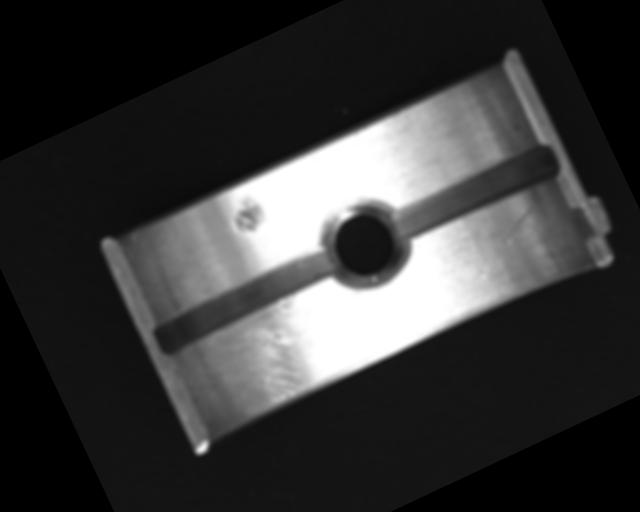bruise: (226, 192, 270, 240)
gap: (149, 240, 345, 360), (387, 139, 562, 247)
hole: (310, 186, 419, 298)
nick: (458, 198, 558, 282)
scratch: (175, 273, 380, 437)
